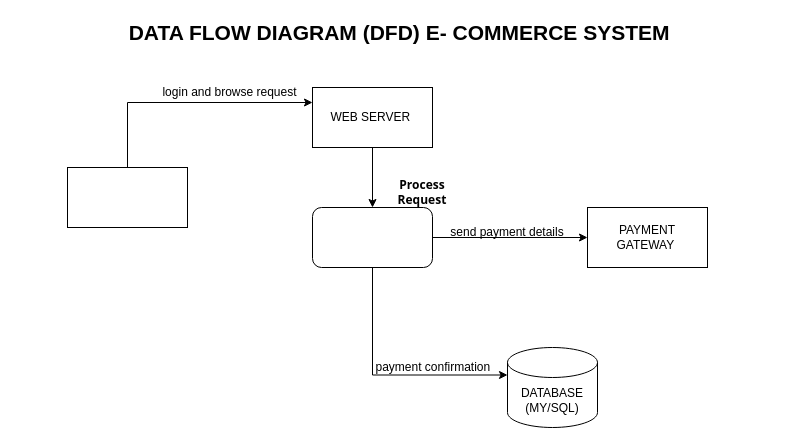
Some shapes in this 804 by 445 pixel diagram are drawn without their labels. The centre of each missing label's shape, as x and y in pixels:
APPLICATION SERVER: point 372,237
COSTUMER: point 127,197
